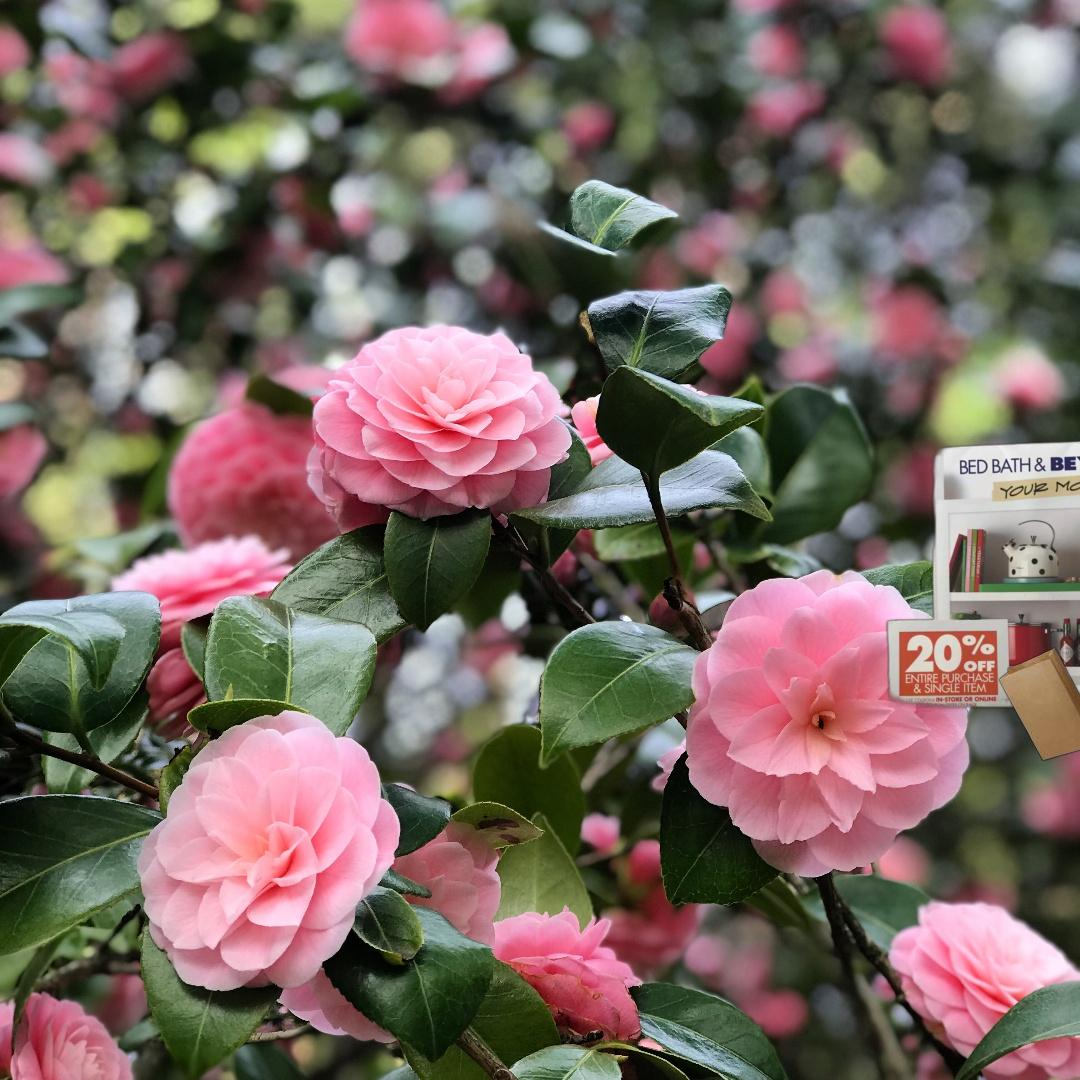paper: (883, 432, 1080, 739)
paper-bag: (998, 496, 1080, 763)
